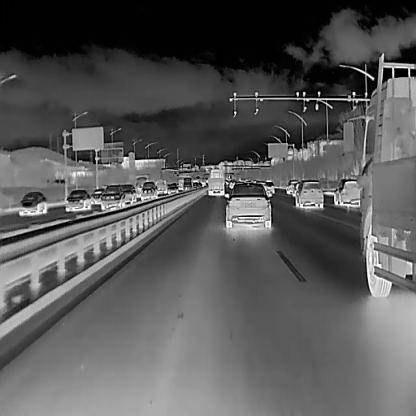car: (224, 180, 272, 230), (293, 178, 324, 208), (333, 176, 361, 209), (18, 190, 48, 215), (99, 182, 124, 210), (64, 189, 91, 212), (138, 180, 157, 200), (119, 183, 136, 203), (90, 187, 105, 203), (154, 176, 166, 195), (285, 178, 299, 193), (263, 180, 274, 194), (166, 183, 178, 193)
truck: (358, 51, 416, 297), (206, 168, 224, 195), (180, 176, 193, 192)
